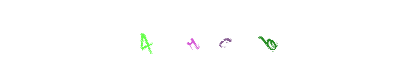4: (141, 0, 221, 80)
B: (228, 0, 308, 80)
C: (170, 0, 250, 80)
R: (169, 0, 249, 80)
